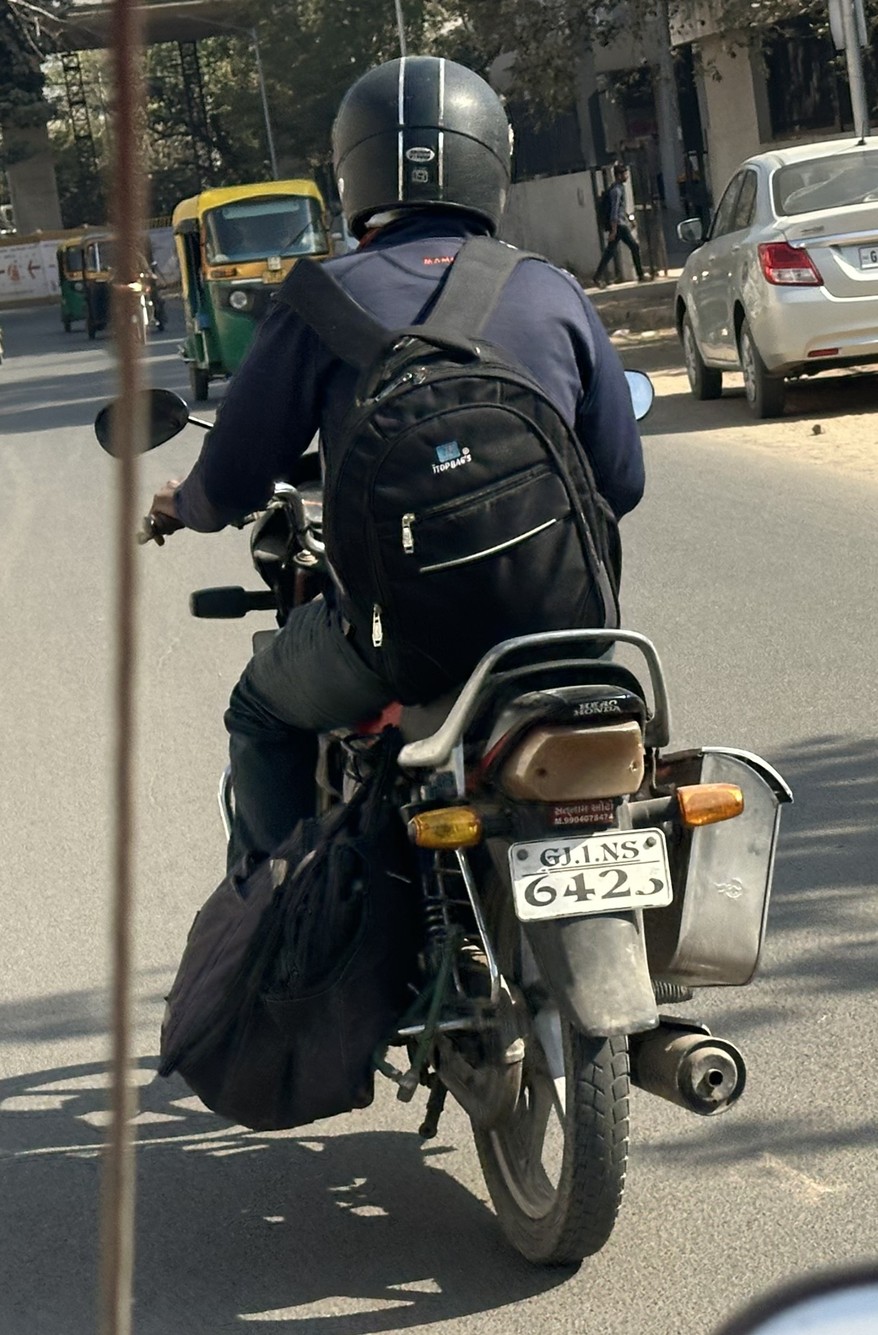BikeWithRider: (79, 43, 804, 1284)
Helmet: (316, 43, 527, 258)
